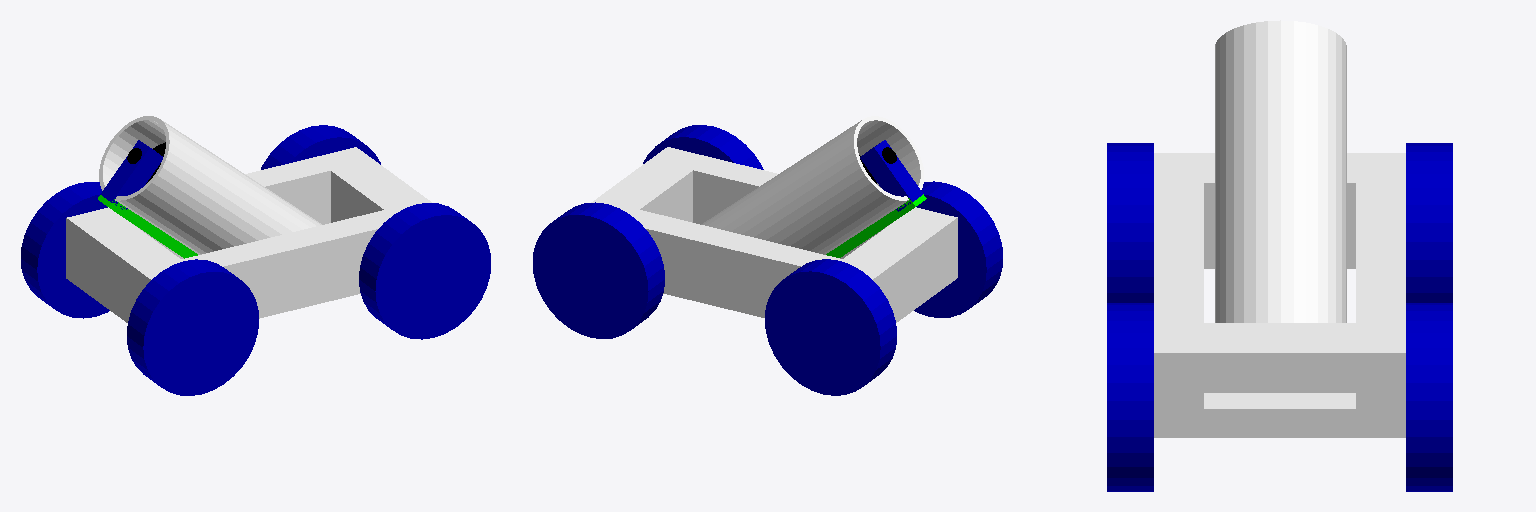
URDF robot description (Roberto_MkII):
<?xml version="1.0" ?>
<!-- =================================================================================== -->
<!-- |    This document was autogenerated by xacro from nasa_bot.xacro                 | -->
<!-- |    EDITING THIS FILE BY HAND IS NOT RECOMMENDED                                 | -->
<!-- =================================================================================== -->
<!-- Credit to https://github.com/ZBO-R8io/Roberto/blob/main/backups/lunarbot/urdf/lunarbot2.xacro -->
<!-- For the robot's urdf model -->
<!--Name of Robot-->
<robot name="Roberto_MkII">
  <!--Materials-->
  <material name="blue">
    <color rgba="0 0 0.8 1"/>
  </material>
  <material name="white">
    <color rgba="1 1 1 1"/>
  </material>
  <material name="black">
    <color rgba="0 0 0 1"/>
  </material>
  <material name="green">
    <color rgba="0 1 0 1"/>
  </material>
  <link name="base_link">
    <visual>
      <geometry>
        <mesh filename="package://lunarbot/meshes/base_link2.stl"/>
      </geometry>
      <material name="white"/>
    </visual>
    <collision>
      <geometry>
        <box size="1.5 0.8 0.3"/>
      </geometry>
    </collision>
    <inertial>
      <mass value="10"/>
      <inertia ixx="1.0" ixy="0" ixz="0" iyy="1.0" iyz="0" izz="1.0"/>
    </inertial>
  </link>
  <gazebo>
    <material>Gazebo/Grey</material>
  </gazebo>
  <link name="link_0">
    <visual>
      <geometry>
        <cylinder length="0.15" radius="0.3"/>
      </geometry>
      <origin rpy="1.57075 0 0"/>
      <material name="blue"/>
    </visual>
    <collision>
      <geometry>
        <cylinder length="0.15" radius="0.3"/>
      </geometry>
      <origin rpy="1.57075 0 0"/>
    </collision>
    <inertial>
      <mass value="5"/>
      <inertia ixx="1.0" ixy="0" ixz="0" iyy="1.0" iyz="0" izz="1.0"/>
    </inertial>
  </link>
  <joint name="joint_0" type="continuous">
    <parent link="base_link"/>
    <child link="link_0"/>
    <axis xyz="0 1 0"/>
    <origin xyz="0.6 0.475 -0.075"/>
  </joint>
  <transmission name="joint_0_wheel_trans">
    <type>transmission_interface/SimpleTransmission</type>
    <actuator name="joint_0_wheel_motor">
      <hardwareInterface>hardware_interface/VelocityJointInterface
        </hardwareInterface>
      <mechanicalReduction>1</mechanicalReduction>
    </actuator>
    <joint name="joint_0">
      <hardwareInterface>hardware_interface/VelocityJointInterface
        </hardwareInterface>
    </joint>
  </transmission>
  <gazebo reference="link_0">
    <mu1 value="200.0"/>
    <mu2 value="100.0"/>
    <kp value="10000000.0"/>
    <kd value="1.0"/>
    <material>Gazebo/Blue</material>
  </gazebo>
  <link name="link_1">
    <visual>
      <geometry>
        <cylinder length="0.15" radius="0.3"/>
      </geometry>
      <origin rpy="1.57075 0 0"/>
      <material name="blue"/>
    </visual>
    <collision>
      <geometry>
        <cylinder length="0.15" radius="0.3"/>
      </geometry>
      <origin rpy="1.57075 0 0"/>
    </collision>
    <inertial>
      <mass value="5"/>
      <inertia ixx="1.0" ixy="0" ixz="0" iyy="1.0" iyz="0" izz="1.0"/>
    </inertial>
  </link>
  <joint name="joint_1" type="continuous">
    <parent link="base_link"/>
    <child link="link_1"/>
    <axis xyz="0 1 0"/>
    <origin xyz="0.6 -0.475 -0.075"/>
  </joint>
  <transmission name="joint_1_wheel_trans">
    <type>transmission_interface/SimpleTransmission</type>
    <actuator name="joint_1_wheel_motor">
      <hardwareInterface>hardware_interface/VelocityJointInterface
        </hardwareInterface>
      <mechanicalReduction>1</mechanicalReduction>
    </actuator>
    <joint name="joint_1">
      <hardwareInterface>hardware_interface/VelocityJointInterface
        </hardwareInterface>
    </joint>
  </transmission>
  <gazebo reference="link_1">
    <mu1 value="200.0"/>
    <mu2 value="100.0"/>
    <kp value="10000000.0"/>
    <kd value="1.0"/>
    <material>Gazebo/Blue</material>
  </gazebo>
  <link name="link_2">
    <visual>
      <geometry>
        <cylinder length="0.15" radius="0.3"/>
      </geometry>
      <origin rpy="1.57075 0 0"/>
      <material name="blue"/>
    </visual>
    <collision>
      <geometry>
        <cylinder length="0.15" radius="0.3"/>
      </geometry>
      <origin rpy="1.57075 0 0"/>
    </collision>
    <inertial>
      <mass value="5"/>
      <inertia ixx="1.0" ixy="0" ixz="0" iyy="1.0" iyz="0" izz="1.0"/>
    </inertial>
  </link>
  <joint name="joint_2" type="continuous">
    <parent link="base_link"/>
    <child link="link_2"/>
    <axis xyz="0 1 0"/>
    <origin xyz="-0.6 0.475 -0.075"/>
  </joint>
  <transmission name="joint_2_wheel_trans">
    <type>transmission_interface/SimpleTransmission</type>
    <actuator name="joint_2_wheel_motor">
      <hardwareInterface>hardware_interface/VelocityJointInterface
        </hardwareInterface>
      <mechanicalReduction>1</mechanicalReduction>
    </actuator>
    <joint name="joint_2">
      <hardwareInterface>hardware_interface/VelocityJointInterface
        </hardwareInterface>
    </joint>
  </transmission>
  <gazebo reference="link_2">
    <mu1 value="200.0"/>
    <mu2 value="100.0"/>
    <kp value="10000000.0"/>
    <kd value="1.0"/>
    <material>Gazebo/Blue</material>
  </gazebo>
  <link name="link_3">
    <visual>
      <geometry>
        <cylinder length="0.15" radius="0.3"/>
      </geometry>
      <origin rpy="1.57075 0 0"/>
      <material name="blue"/>
    </visual>
    <collision>
      <geometry>
        <cylinder length="0.15" radius="0.3"/>
      </geometry>
      <origin rpy="1.57075 0 0"/>
    </collision>
    <inertial>
      <mass value="5"/>
      <inertia ixx="1.0" ixy="0" ixz="0" iyy="1.0" iyz="0" izz="1.0"/>
    </inertial>
  </link>
  <joint name="joint_3" type="continuous">
    <parent link="base_link"/>
    <child link="link_3"/>
    <axis xyz="0 1 0"/>
    <origin xyz="-0.6 -0.475 -0.075"/>
  </joint>
  <transmission name="joint_3_wheel_trans">
    <type>transmission_interface/SimpleTransmission</type>
    <actuator name="joint_3_wheel_motor">
      <hardwareInterface>hardware_interface/VelocityJointInterface
        </hardwareInterface>
      <mechanicalReduction>1</mechanicalReduction>
    </actuator>
    <joint name="joint_3">
      <hardwareInterface>hardware_interface/VelocityJointInterface
        </hardwareInterface>
    </joint>
  </transmission>
  <gazebo reference="link_3">
    <mu1 value="200.0"/>
    <mu2 value="100.0"/>
    <kp value="10000000.0"/>
    <kd value="1.0"/>
    <material>Gazebo/Blue</material>
  </gazebo>
  <link name="link_4">
    <visual>
      <geometry>
        <box size="0.05 0.1 0.8"/>
      </geometry>
      <origin xyz="0 0 0.3"/>
      <material name="green"/>
    </visual>
    <collision>
      <geometry>
        <box size="0.05 0.1 0.8"/>
      </geometry>
      <origin xyz="0 0 0.3"/>
    </collision>
    <inertial>
      <mass value="3"/>
      <inertia ixx="1.0" ixy="0" ixz="0" iyy="1.0" iyz="0" izz="1.0"/>
    </inertial>
  </link>
  <joint name="joint_4" type="fixed">
    <parent link="base_link"/>
    <child link="link_4"/>
    <origin rpy="0 -0.85 0" xyz="-0.25 0 -0.05"/>
  </joint>
  <gazebo reference="link_4">
    <material>Gazebo/Yellow</material>
  </gazebo>
  <link name="link_5">
    <visual>
      <geometry>
        <box size="0.1 0.1 0.3"/>
      </geometry>
      <origin rpy="0 1.575 0" xyz="0.15 0 0"/>
      <material name="blue"/>
    </visual>
    <collision>
      <geometry>
        <box size="0.1 0.1 0.3"/>
      </geometry>
      <origin rpy="0 1.575 0" xyz="0.15 0 0"/>
    </collision>
    <inertial>
      <mass value="2"/>
      <inertia ixx="1.0" ixy="0" ixz="0" iyy="1.0" iyz="0" izz="1.0"/>
    </inertial>
  </link>
  <joint name="joint_5" type="prismatic">
    <parent link="link_4"/>
    <child link="link_5"/>
    <axis xyz="0 0 1"/>
    <limit effort="1000" lower="-0.55" upper="0" velocity="0.5"/>
    <origin xyz="0 0 0.65"/>
  </joint>
  <transmission name="joint_5_trans">
    <type>transmission_interface/SimpleTransmission</type>
    <actuator name="joint_5_motor">
      <hardwareInterface>hardware_interface/PositionJointInterface
        </hardwareInterface>
      <mechanicalReduction>1</mechanicalReduction>
    </actuator>
    <joint name="joint_5">
      <hardwareInterface>hardware_interface/PositionJointInterface
        </hardwareInterface>
    </joint>
  </transmission>
  <gazebo reference="link_5">
    <mu1 value="200.0"/>
    <mu2 value="100.0"/>
    <kp value="10000000.0"/>
    <kd value="1.0"/>
    <material>Gazebo/Blue</material>
  </gazebo>
  <link name="auger_link">
    <visual>
      <origin xyz="0 0 -1.2"/>
      <geometry>
        <mesh filename="package://lunarbot/meshes/auger.stl"/>
      </geometry>
      <material name="black"/>
    </visual>
    <collision>
      <geometry>
        <cylinder length="0.4" radius="0.18"/>
      </geometry>
      <origin xyz="0 0 -0.4"/>
    </collision>
    <inertial>
      <mass value="5"/>
      <inertia ixx="1.0" ixy="0" ixz="0" iyy="1.0" iyz="0" izz="1.0"/>
    </inertial>
  </link>
  <joint name="auger_joint" type="continuous">
    <parent link="link_5"/>
    <child link="auger_link"/>
    <axis xyz="0 0 1"/>
    <origin xyz="0.23 0 0"/>
  </joint>
  <transmission name="auger_joint_trans">
    <type>transmission_interface/SimpleTransmission</type>
    <actuator name="auger_joint_motor">
      <hardwareInterface>hardware_interface/VelocityJointInterface
        </hardwareInterface>
      <mechanicalReduction>1</mechanicalReduction>
    </actuator>
    <joint name="auger_joint">
      <hardwareInterface>hardware_interface/VelocityJointInterface
        </hardwareInterface>
    </joint>
  </transmission>
  <gazebo reference="auger_link">
    <mu1 value="200.0"/>
    <mu2 value="100.0"/>
    <kp value="10000000.0"/>
    <kd value="1.0"/>
    <material>Gazebo/Black</material>
  </gazebo>
  <!--Gazebo plugin for ros_control-->
  <gazebo>
    <plugin filename="libgazebo_ros_control.so" name="gazebo_ros_control"/>
    <robotNamespace>/lunarbot</robotNamespace>
  </gazebo>
</robot>

--- What the picture shows (computed from the rendered views, not written in the file) ---
3 views of the same robot in one strip: view 1: azimuth 30°, elevation 25°; view 2: azimuth 150°, elevation 25°; view 3: azimuth 270°, elevation 25° (orthographic).
Model Roberto_MkII with 8 links and 7 joints (5 continuous, 1 prismatic, 1 fixed), rooted at base_link, posed all joints at 0.
Visible links, largest first — view 1: base_link, link_1, link_3, link_2, link_0, link_5, link_4; view 2: base_link, link_2, link_0, link_3, link_1, link_5, link_4; view 3: base_link, link_0, link_1, link_2, link_3.
Link boxes in pixels (x1,y1,x2,y2): base_link: (66,116,431,322); link_1: (359,203,490,339); link_3: (127,259,258,395); link_2: (21,182,109,318); link_0: (261,125,380,169); link_5: (100,140,162,209); link_4: (98,195,197,258); base_link: (591,116,957,322); link_2: (765,259,896,395); link_0: (533,202,664,338); link_3: (914,181,1002,317); link_1: (643,125,763,169); link_5: (860,140,922,211); link_4: (826,194,926,257); base_link: (1154,20,1405,437); link_0: (1406,303,1452,491); link_1: (1107,303,1153,491); link_2: (1406,143,1452,302); link_3: (1107,143,1153,302).
Bounding box of the posed robot: 1.8 × 1.1 × 1.11 m (x, y, z).
Meshes: 2 distinct files referenced, 2 mesh visuals loaded (2 binary STL).
